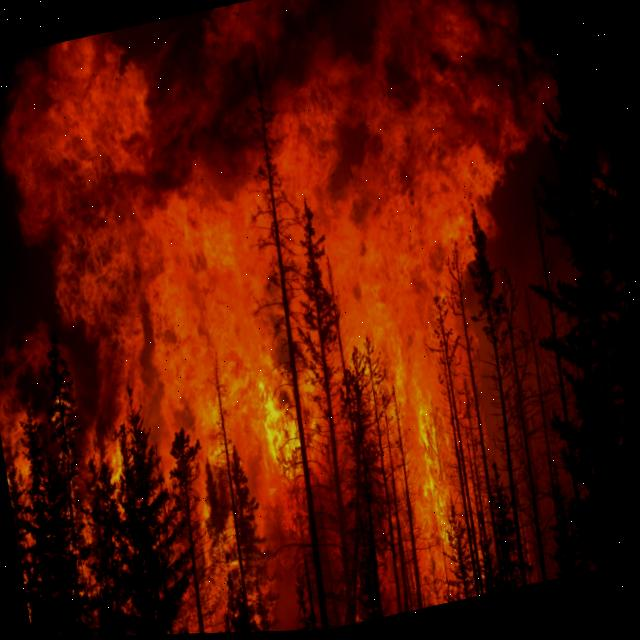fire: (0, 0, 566, 633)
